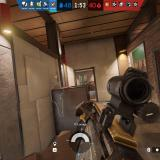Friend_label: (50, 75, 62, 83)
